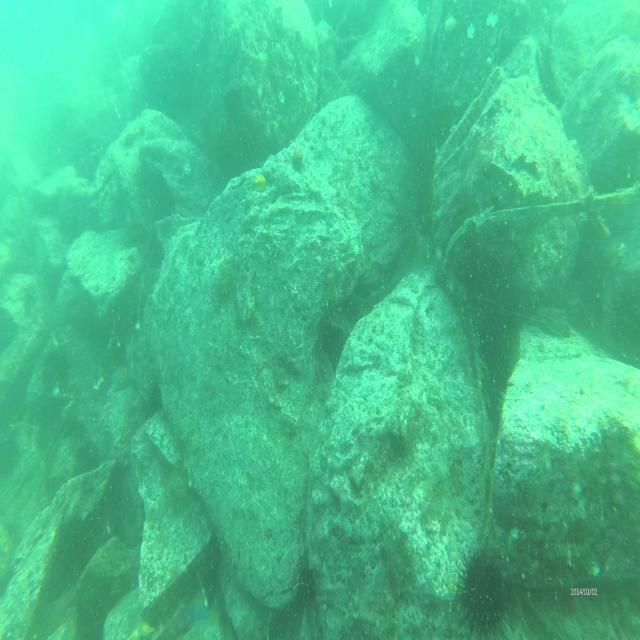echinus: (451, 540, 518, 640), (158, 467, 200, 519), (38, 344, 73, 396)
starfish: (184, 581, 217, 627)
